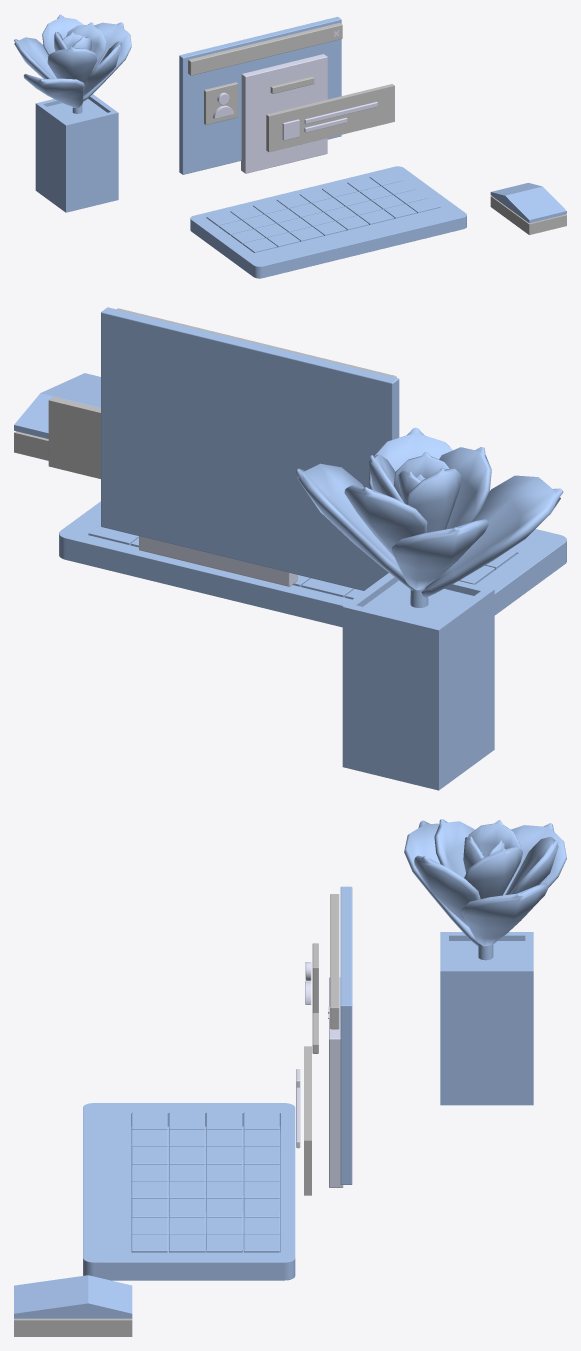
3 renders of one model, top to bottom at view 1: azimuth 30°, elevation 25°; view 2: azimuth 150°, elevation 25°; view 3: azimuth 270°, elevation 25°, orthographic. The views are drawn at different scales.
Visible parts, largest first — view 1: 立方体.001, 立方体.004, 立方体, 立方体.008, 立方体.006, 立方体.005, 立方体.003, LpLeaf.010, LpLeaf.015, LpLeaf.014, 立方体.007, 立方体.002 (+6 smaller); view 2: 立方体, 立方体.004, 立方体.001, LpLeaf.015, LpLeaf.014, 立方体.006, LpLeaf.013, LpLeaf.011, LpLeaf.010, 立方体.003, 立方体.008, LpLeaf.008 (+5 smaller); view 3: 立方体.001, 立方体.004, 立方体.003, 立方体, LpLeaf.014, 立方体.002, 立方体.008, LpLeaf.012, LpLeaf.009, LpLeaf.015, LpLeaf.011, LpLeaf.010 (+4 smaller).
Part boxes in pixels (box(x1,y1,x2,y2)): 立方体.001: box(190, 166, 466, 278); 立方体.004: box(35, 94, 118, 212); 立方体: box(179, 16, 341, 174); 立方体.008: box(241, 54, 327, 173); 立方体.006: box(266, 84, 394, 152); 立方体.005: box(188, 22, 342, 75); 立方体.003: box(490, 183, 566, 223); LpLeaf.010: box(47, 47, 97, 83); LpLeaf.015: box(23, 74, 84, 107); LpLeaf.014: box(83, 22, 131, 101); 立方体.007: box(204, 82, 238, 124); 立方体.002: box(490, 196, 566, 234); 立方体: box(101, 307, 399, 590); 立方体.004: box(342, 573, 494, 790); 立方体.001: box(59, 501, 566, 627); LpLeaf.015: box(421, 475, 563, 597); LpLeaf.014: box(296, 463, 413, 590); 立方体.006: box(48, 397, 100, 478); LpLeaf.013: box(392, 519, 488, 590); LpLeaf.011: box(344, 485, 427, 556); LpLeaf.010: box(439, 447, 491, 529); 立方体.003: box(14, 373, 100, 438); 立方体.008: box(139, 536, 297, 586); LpLeaf.008: box(405, 468, 461, 532); 立方体.001: box(83, 1103, 295, 1280); 立方体.004: box(440, 932, 533, 1105); 立方体.003: box(14, 1275, 132, 1318); 立方体: box(340, 886, 352, 1184); LpLeaf.014: box(461, 883, 548, 946); 立方体.002: box(14, 1318, 132, 1336); 立方体.008: box(329, 977, 343, 1187); LpLeaf.012: box(414, 855, 480, 926); LpLeaf.009: box(464, 846, 522, 898); LpLeaf.015: box(404, 820, 478, 946); LpLeaf.011: box(505, 836, 558, 894); LpLeaf.010: box(434, 819, 474, 877).
Size of the model in its own units: 3.84 by 1.53 by 3.03.
